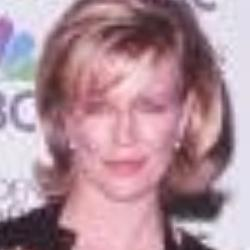face: (33, 2, 229, 209)
